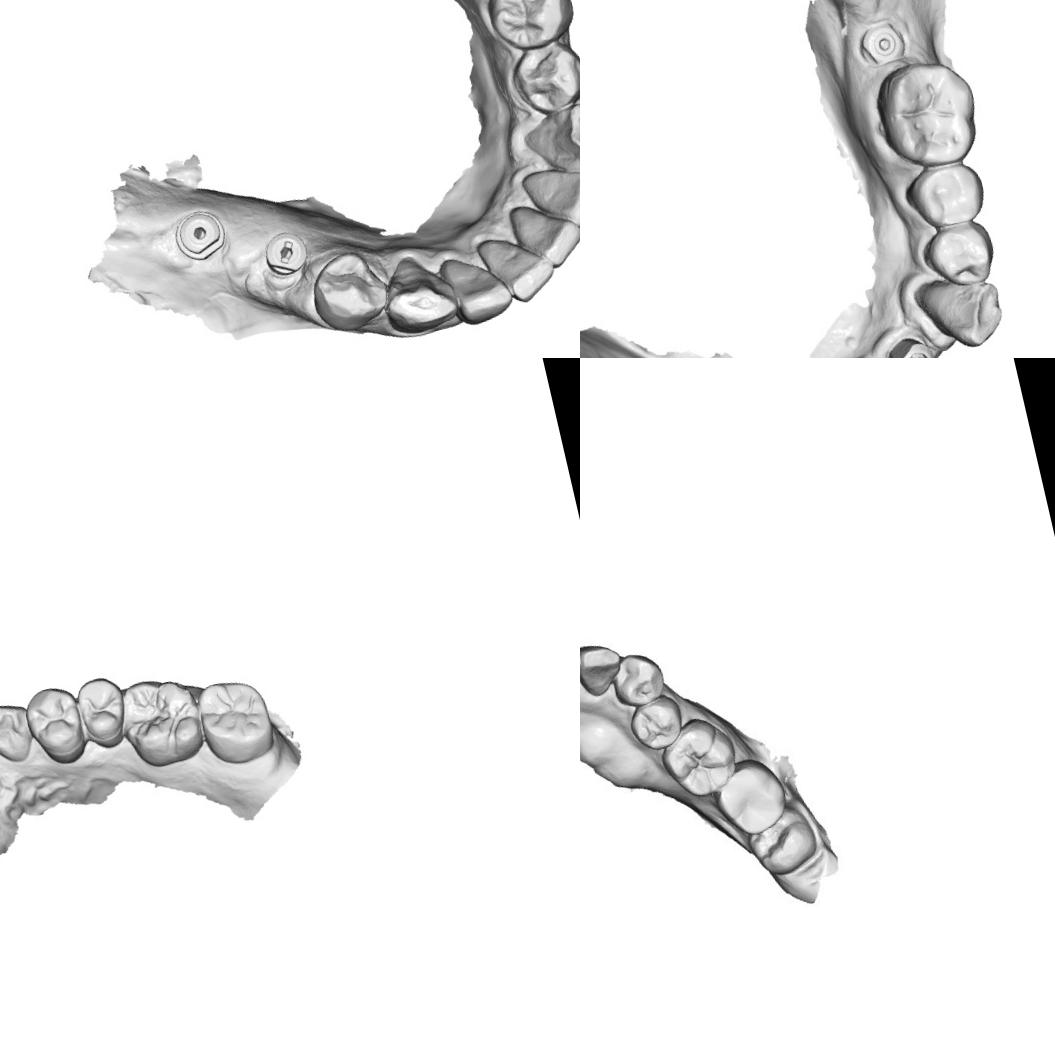canine: (916, 266, 1012, 358), (374, 246, 464, 340), (517, 94, 580, 186), (0, 695, 38, 771), (580, 640, 623, 701)
implant: (169, 204, 230, 266), (856, 15, 910, 74), (884, 337, 931, 358)
implant_minus: (258, 225, 312, 283)
incisor: (473, 222, 561, 314), (437, 246, 514, 334), (506, 193, 580, 277), (514, 155, 580, 240)
molar: (867, 52, 989, 179), (113, 666, 212, 774), (191, 671, 280, 773), (663, 720, 739, 799), (744, 805, 820, 882), (715, 763, 788, 832)
premolar: (302, 243, 396, 339), (901, 152, 994, 238), (19, 678, 95, 773), (916, 215, 1002, 298), (477, 0, 580, 59), (507, 35, 580, 118), (69, 671, 135, 754), (614, 649, 668, 706), (630, 700, 683, 750)
